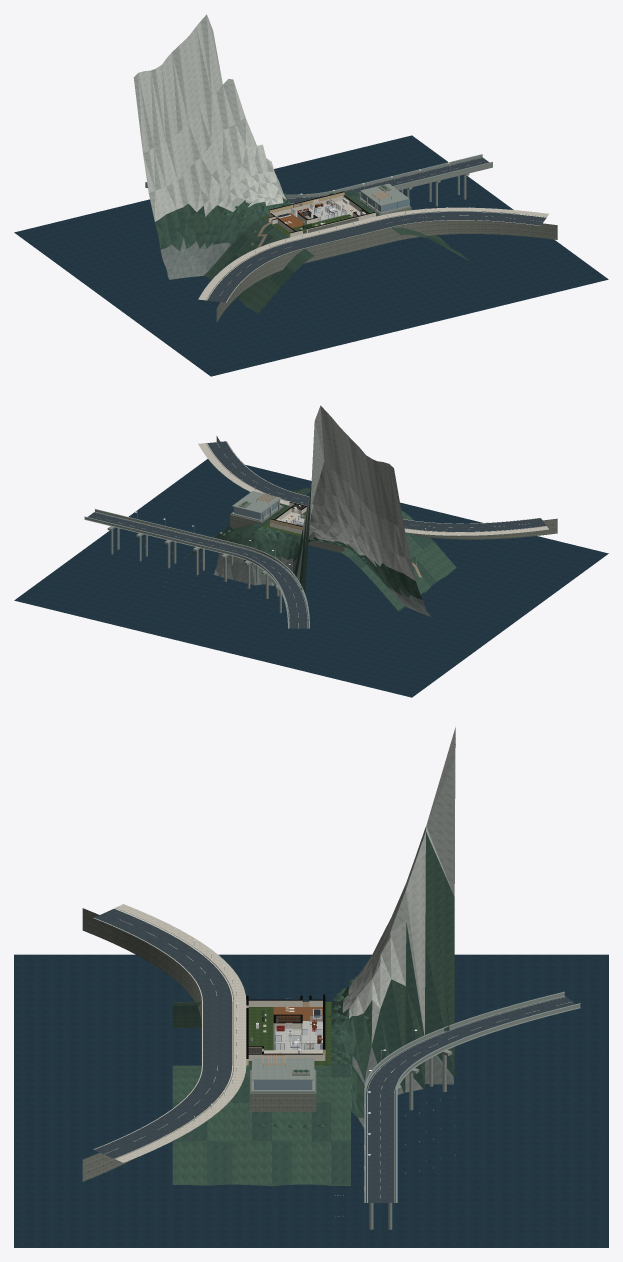
The model's file is joa.glb.
The picture shows the model from 3 angles, top to bottom: view 1: azimuth 30°, elevation 25°; view 2: azimuth 150°, elevation 25°; view 3: azimuth 270°, elevation 25°; orthographic projection. The views are drawn at different scales.
Parts seen in each view (by area): view 1: Lapa_joa_sea, Lapa_joa_granite, Lapa_joa_granite_dark, Lapa_joa_stone, Lapa_joa_green, Lapa_joa_road, Lapa_joa_concrete, Lapa_joa_green_dark, Lapa_pedra, Lapa_joa_rock, Lapa_whitewash, Lapa_joa_rock_dark (+1 smaller); view 2: Lapa_joa_sea, Lapa_joa_granite, Lapa_joa_road, Lapa_joa_granite_dark, Lapa_joa_green, Lapa_joa_concrete, Lapa_joa_green_dark, Lapa_joa_stone, Lapa_pedra, Lapa_joa_rock, Lapa_joa_rock_dark, Lapa_joa_marking (+1 smaller); view 3: Lapa_joa_sea, Lapa_joa_green, Lapa_joa_road, Lapa_joa_green_dark, Lapa_joa_granite, Lapa_joa_concrete, Lapa_joa_stone, Lapa_pedra, Lapa_joa_granite_dark, Lapa_joa_marking, Lapa_grass, Lapa_porcelanato (+4 smaller).
Boxes of the visible parts, box(x1,y1,x2,y2) form: Lapa_joa_sea: box(14, 135, 608, 376); Lapa_joa_granite: box(138, 15, 286, 221); Lapa_joa_granite_dark: box(133, 14, 285, 221); Lapa_joa_stone: box(206, 185, 557, 322); Lapa_joa_green: box(155, 191, 469, 313); Lapa_joa_road: box(207, 157, 546, 302); Lapa_joa_concrete: box(145, 154, 492, 234); Lapa_joa_green_dark: box(155, 191, 456, 305); Lapa_pedra: box(198, 200, 548, 300); Lapa_joa_rock: box(160, 238, 228, 278); Lapa_whitewash: box(268, 196, 375, 237); Lapa_joa_rock_dark: box(161, 242, 230, 279); Lapa_joa_sea: box(14, 459, 608, 697); Lapa_joa_granite: box(302, 405, 415, 580); Lapa_joa_road: box(87, 441, 546, 628); Lapa_joa_granite_dark: box(305, 406, 415, 579); Lapa_joa_green: box(184, 488, 456, 610); Lapa_joa_concrete: box(84, 491, 309, 628); Lapa_joa_green_dark: box(186, 481, 445, 610); Lapa_joa_stone: box(206, 436, 557, 576); Lapa_pedra: box(198, 443, 548, 535); Lapa_joa_rock: box(213, 553, 429, 615); Lapa_joa_rock_dark: box(224, 543, 430, 616); Lapa_joa_marking: box(96, 441, 545, 628); Lapa_joa_sea: box(14, 954, 608, 1247); Lapa_joa_green: box(172, 832, 454, 1186); Lapa_joa_road: box(93, 909, 575, 1202); Lapa_joa_green_dark: box(172, 872, 454, 1184); Lapa_joa_granite: box(342, 727, 455, 1035); Lapa_joa_concrete: box(251, 992, 580, 1229); Lapa_joa_stone: box(82, 908, 324, 1181); Lapa_pedra: box(115, 904, 322, 1162); Lapa_joa_granite_dark: box(343, 744, 455, 1045); Lapa_joa_marking: box(93, 908, 572, 1202); Lapa_grass: box(248, 1002, 331, 1065); Lapa_porcelanato: box(275, 1021, 322, 1050).
Size of the model in its own units: 140 by 77.32 by 120.
67 materials, 30 textured.
